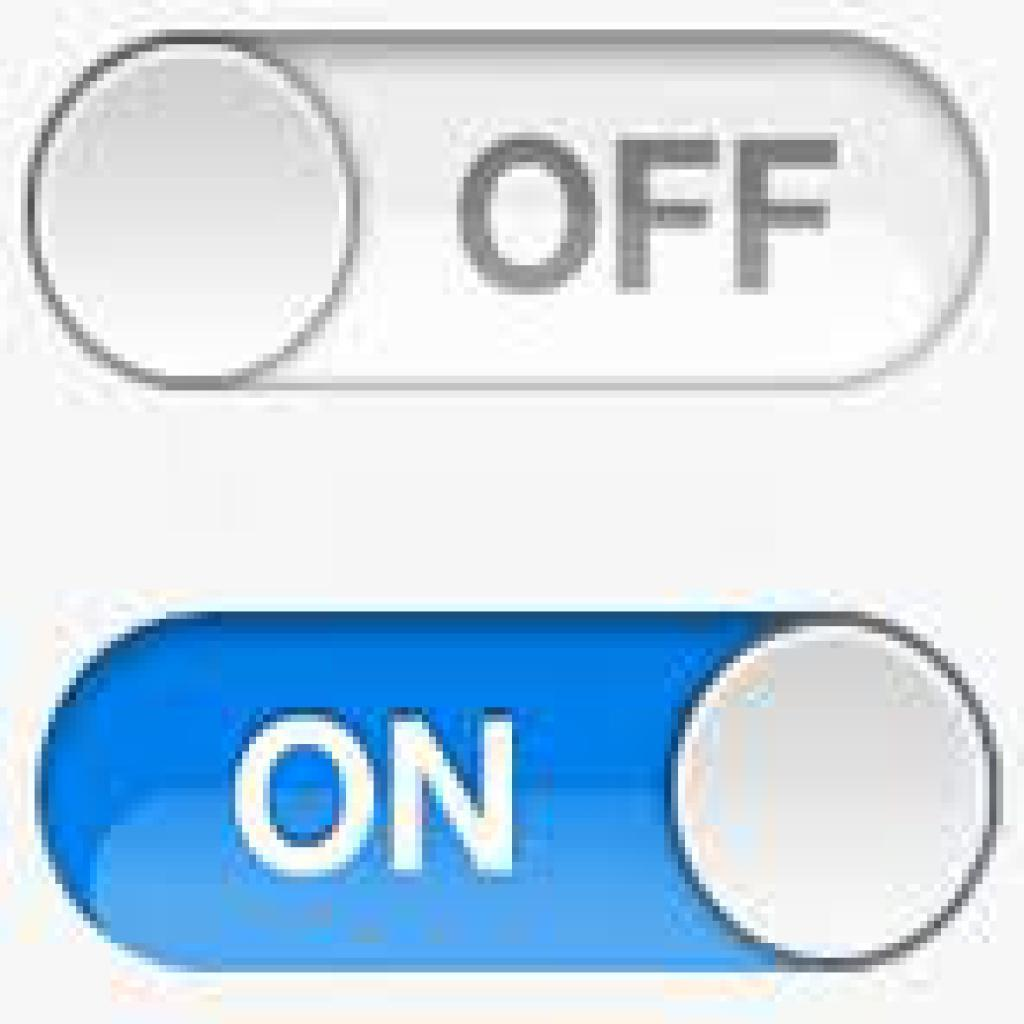switch: (21, 26, 992, 386), (41, 613, 1003, 973)
